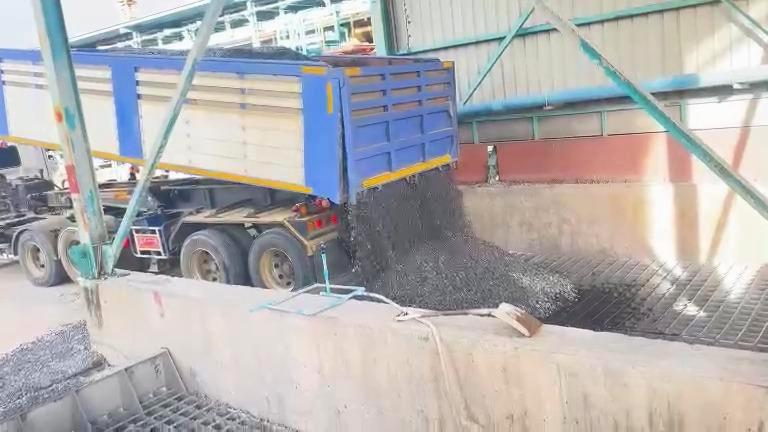gravel: (342, 169, 578, 318), (1, 321, 92, 419), (205, 46, 325, 63)
